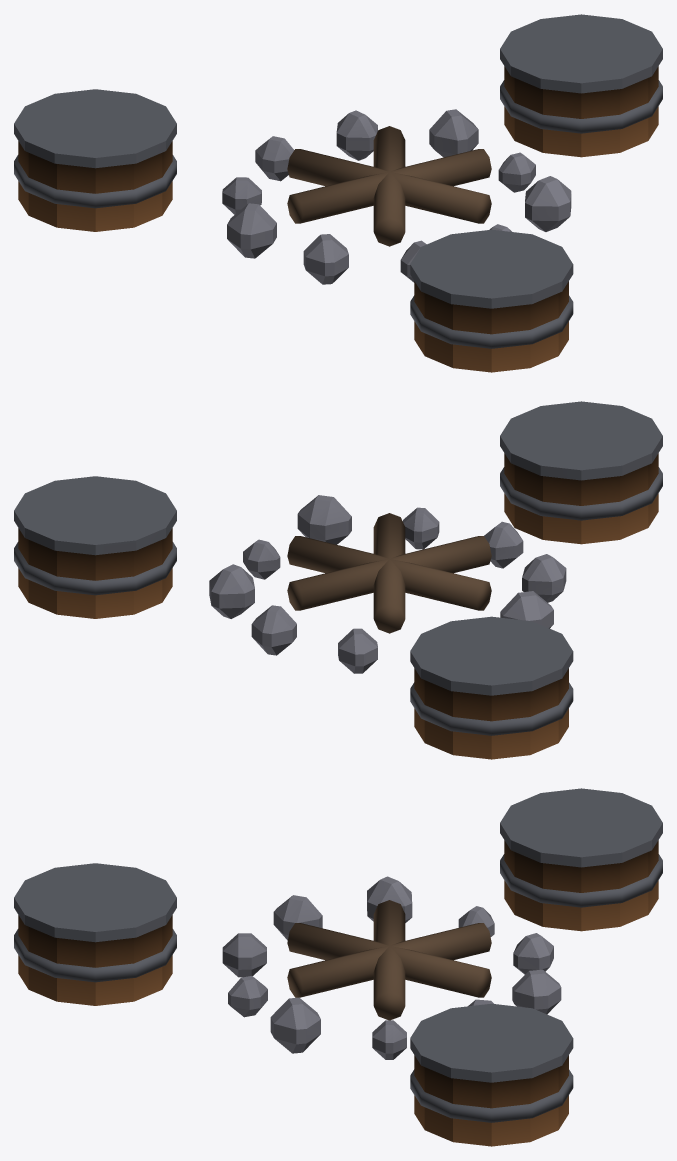
The model's file is bonfire.glb.
3 views of the same model, one above another, from view 1: azimuth 30°, elevation 25°; view 2: azimuth 150°, elevation 25°; view 3: azimuth 270°, elevation 25° (orthographic).
Parts seen in each view (by area): view 1: bonfire; view 2: bonfire; view 3: bonfire.
Part boxes in pixels (left/top/right/bottom): bonfire: left=14, top=14, right=662, bottom=372; bonfire: left=14, top=401, right=662, bottom=759; bonfire: left=14, top=788, right=662, bottom=1146.
Size of the model in its own units: 1.91 by 0.238 by 1.85.
